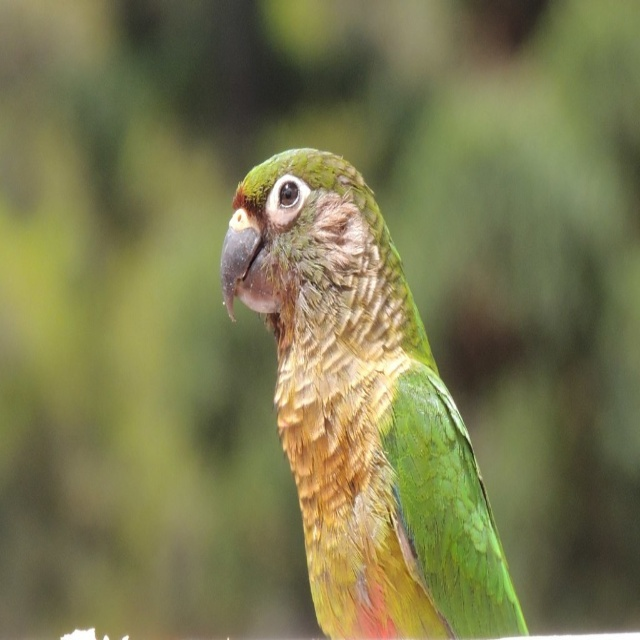Parrot: (219, 149, 532, 639)
